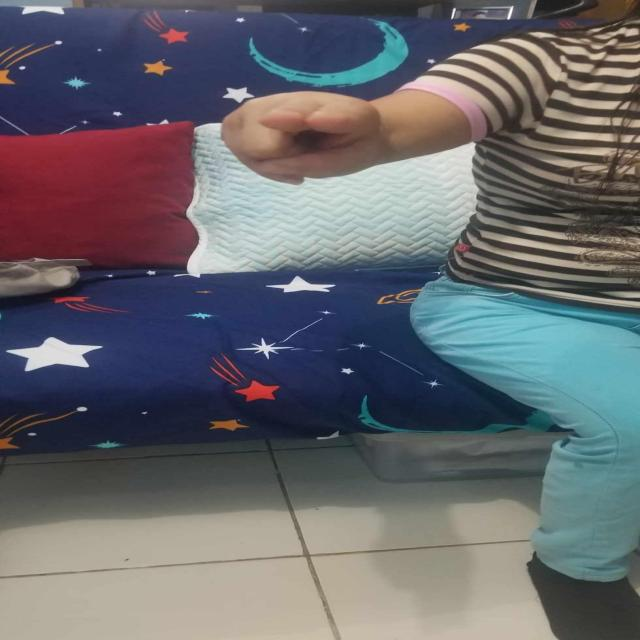N: (217, 90, 386, 186)
